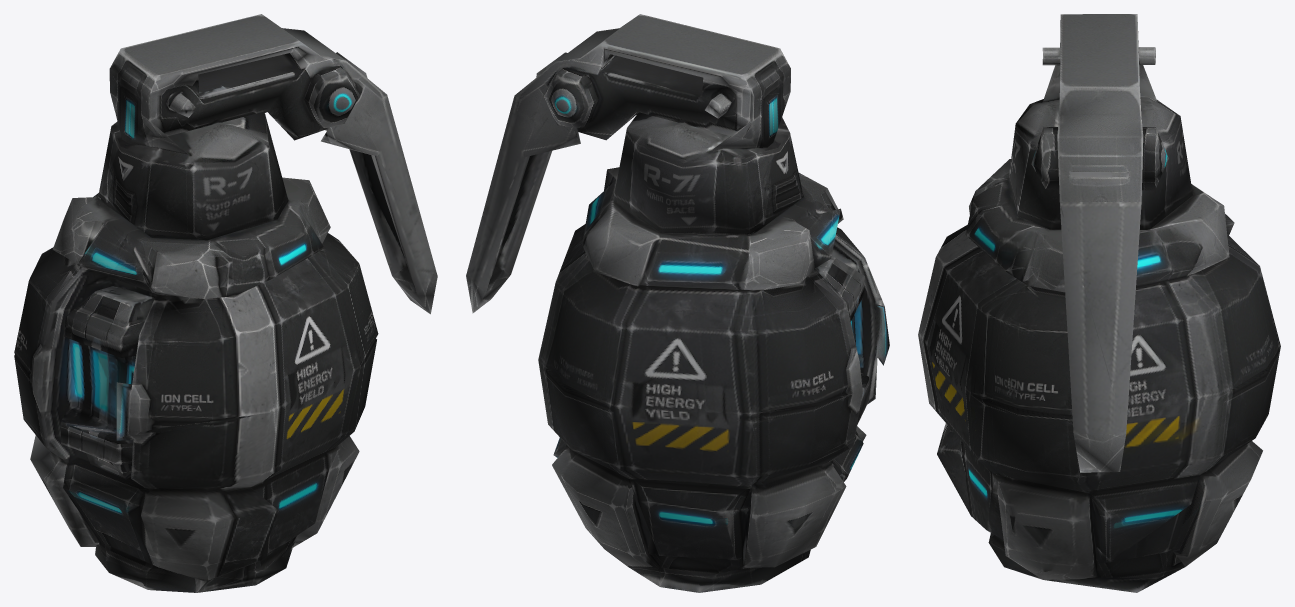
The model's file is Meshy_AI_Ion_Grenade_0917054453_texture.fbx.
3 renders of one model, left to right at view 1: azimuth 30°, elevation 25°; view 2: azimuth 150°, elevation 25°; view 3: azimuth 270°, elevation 25°, orthographic. The views are drawn at different scales.
Visible parts, largest first — view 1: Mesh_0; view 2: Mesh_0; view 3: Mesh_0.
Boxes of the visible parts, x1,y1,x2,y2 form: Mesh_0: (14,14,437,592); Mesh_0: (466,14,889,592); Mesh_0: (918,14,1280,592).
Bounding box in the file's own units: 80.47 × 100 × 64.26.
Materials: 1 (1 with a texture image).
